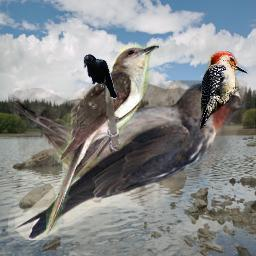Crow: (83, 54, 117, 100)
Cuckoo: (46, 44, 159, 235)
Swallow: (8, 80, 255, 240)
Woodpecker: (200, 51, 250, 129)
